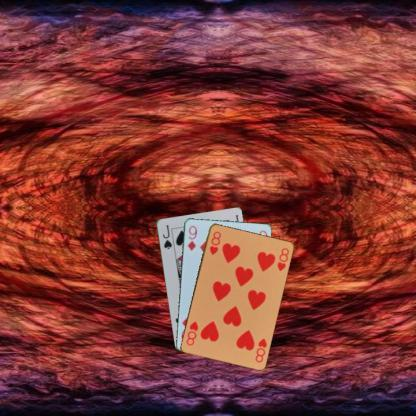8h: (252, 335, 269, 364), (207, 229, 222, 256)
9d: (184, 223, 198, 252)
Js: (160, 223, 172, 250)
